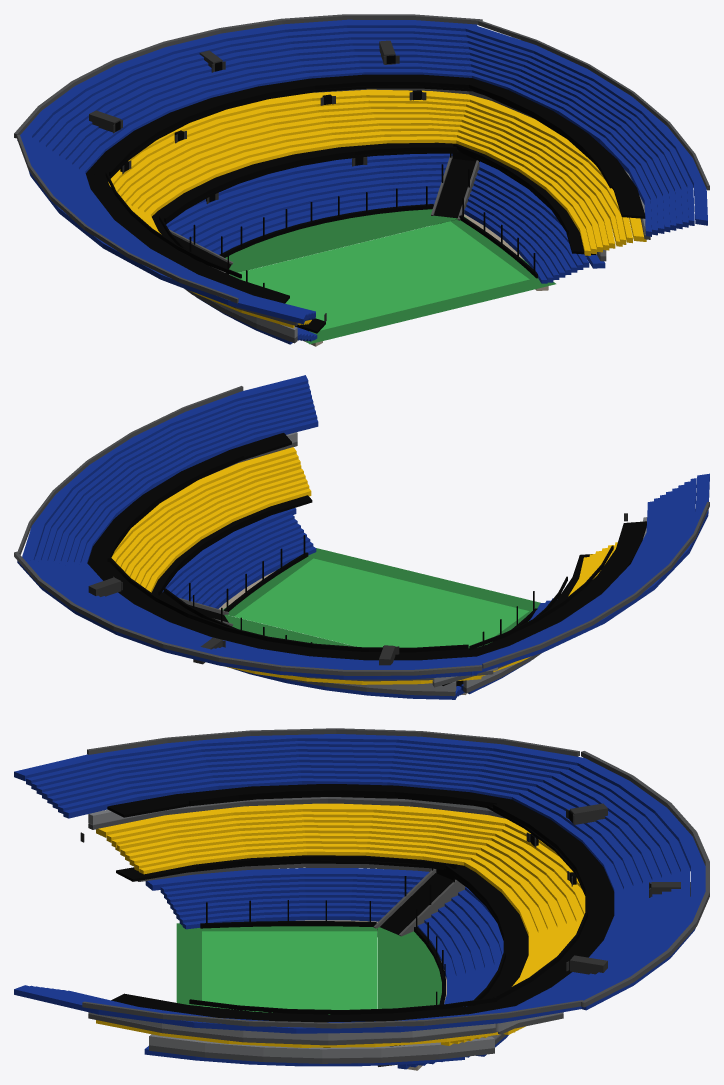
3 views of the same model, one above another, from view 1: azimuth 30°, elevation 25°; view 2: azimuth 150°, elevation 25°; view 3: azimuth 270°, elevation 25° (orthographic). The views are drawn at different scales.
Visible parts, largest first — view 1: Cancha, Borde cancha.003, Cubo.139, Cubo.149, Cubo.152, Cubo.153, Cubo.148, Cubo.186, Cubo.185, Cubo.147, Cubo.144, Cubo.146 (+72 smaller); view 2: Cancha, Cubo.139, Cubo.149, Cubo.152, Cubo.153, Cubo.144, Cubo.186, Cubo.185, Borde cancha.002, Cubo.161, Cubo.160, Cubo.159 (+53 smaller); view 3: Cancha, Cubo.139, Cubo.185, Borde cancha.003, Cubo.186, Cubo.153, Cubo.149, Cubo.075, Cubo.128, Cubo.152, Cubo.177, Cubo.178 (+71 smaller).
Part boxes in pixels (x1=…): Cancha: x1=238, y1=221, x2=529, y2=330; Borde cancha.003: x1=225, y1=209, x2=464, y2=274; Cubo.139: x1=89, y1=74, x2=479, y2=181; Cubo.149: x1=17, y1=19, x2=477, y2=140; Cubo.152: x1=467, y1=77, x2=645, y2=218; Cubo.153: x1=465, y1=24, x2=707, y2=225; Cubo.148: x1=34, y1=28, x2=473, y2=142; Cubo.186: x1=85, y1=170, x2=289, y2=303; Cubo.185: x1=20, y1=133, x2=306, y2=324; Cubo.147: x1=42, y1=33, x2=467, y2=146; Cubo.144: x1=14, y1=14, x2=482, y2=138; Cubo.146: x1=50, y1=39, x2=468, y2=151; Cancha: x1=234, y1=558, x2=528, y2=647; Cubo.139: x1=90, y1=555, x2=481, y2=660; Cubo.149: x1=17, y1=560, x2=477, y2=679; Cubo.152: x1=87, y1=433, x2=291, y2=565; Cubo.153: x1=22, y1=375, x2=308, y2=560; Cubo.144: x1=14, y1=551, x2=482, y2=675; Cubo.186: x1=470, y1=521, x2=646, y2=656; Cubo.185: x1=467, y1=473, x2=709, y2=675; Borde cancha.002: x1=308, y1=548, x2=540, y2=611; Cubo.161: x1=34, y1=383, x2=309, y2=561; Cubo.160: x1=41, y1=388, x2=310, y2=563; Cubo.159: x1=48, y1=393, x2=311, y2=565; Cancha: x1=202, y1=931, x2=377, y2=1014; Cubo.139: x1=484, y1=803, x2=614, y2=1006; Cubo.185: x1=14, y1=734, x2=588, y2=781; Borde cancha.003: x1=378, y1=927, x2=441, y2=1008; Cubo.186: x1=107, y1=784, x2=518, y2=817; Cubo.153: x1=14, y1=985, x2=585, y2=1033; Cubo.149: x1=577, y1=760, x2=705, y2=1010; Cubo.075: x1=149, y1=1034, x2=494, y2=1058; Cubo.128: x1=96, y1=803, x2=510, y2=837; Cubo.152: x1=111, y1=993, x2=510, y2=1022; Cubo.177: x1=26, y1=741, x2=579, y2=785; Cubo.178: x1=31, y1=746, x2=573, y2=790.
Bounding box in the file's own units: 35613 × 7088 × 35417.
